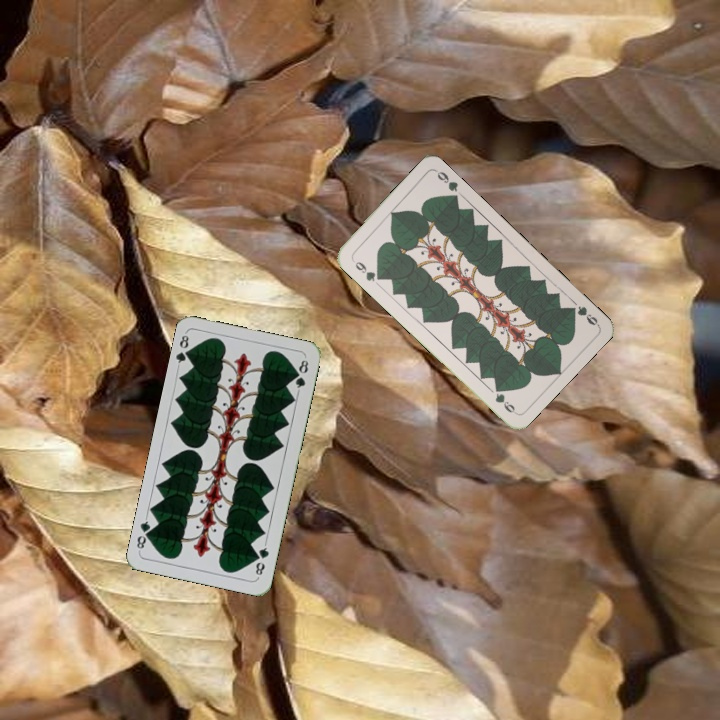G8: (172, 329, 195, 370), (251, 540, 272, 580)
G9: (348, 255, 384, 284), (564, 302, 601, 328)
